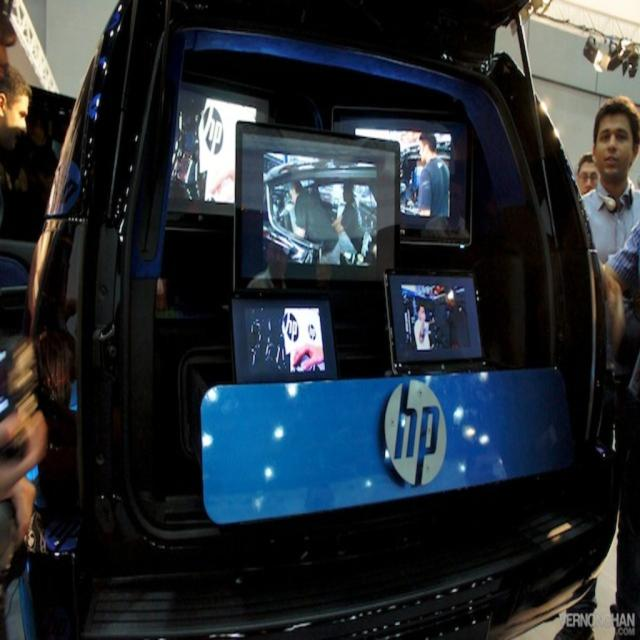car: (20, 0, 610, 638)
